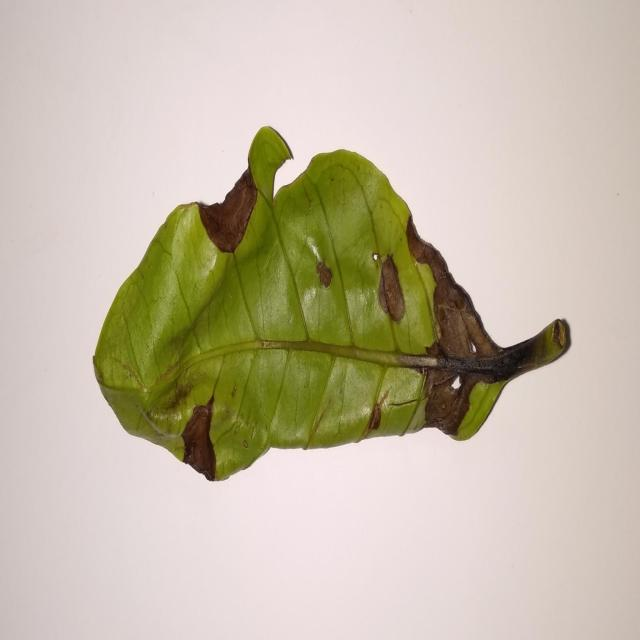Enfermedad-Antracnosis: (92, 127, 572, 484)
